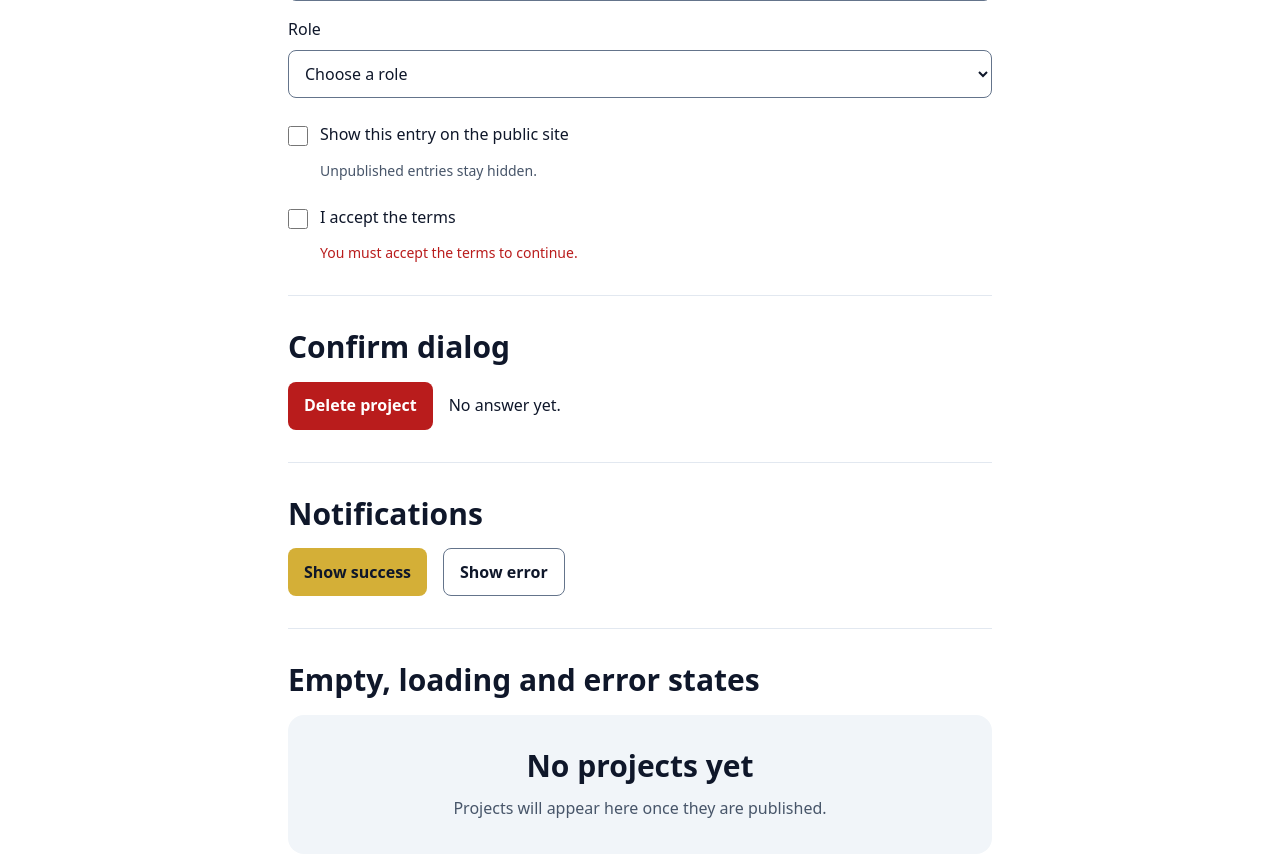
Test: ComponentGalleryPage › opens the confirm dialog and records the answer
(page scrolled)
Click the button "Delete project".
click(360, 406)  # box [288,382,433,430]
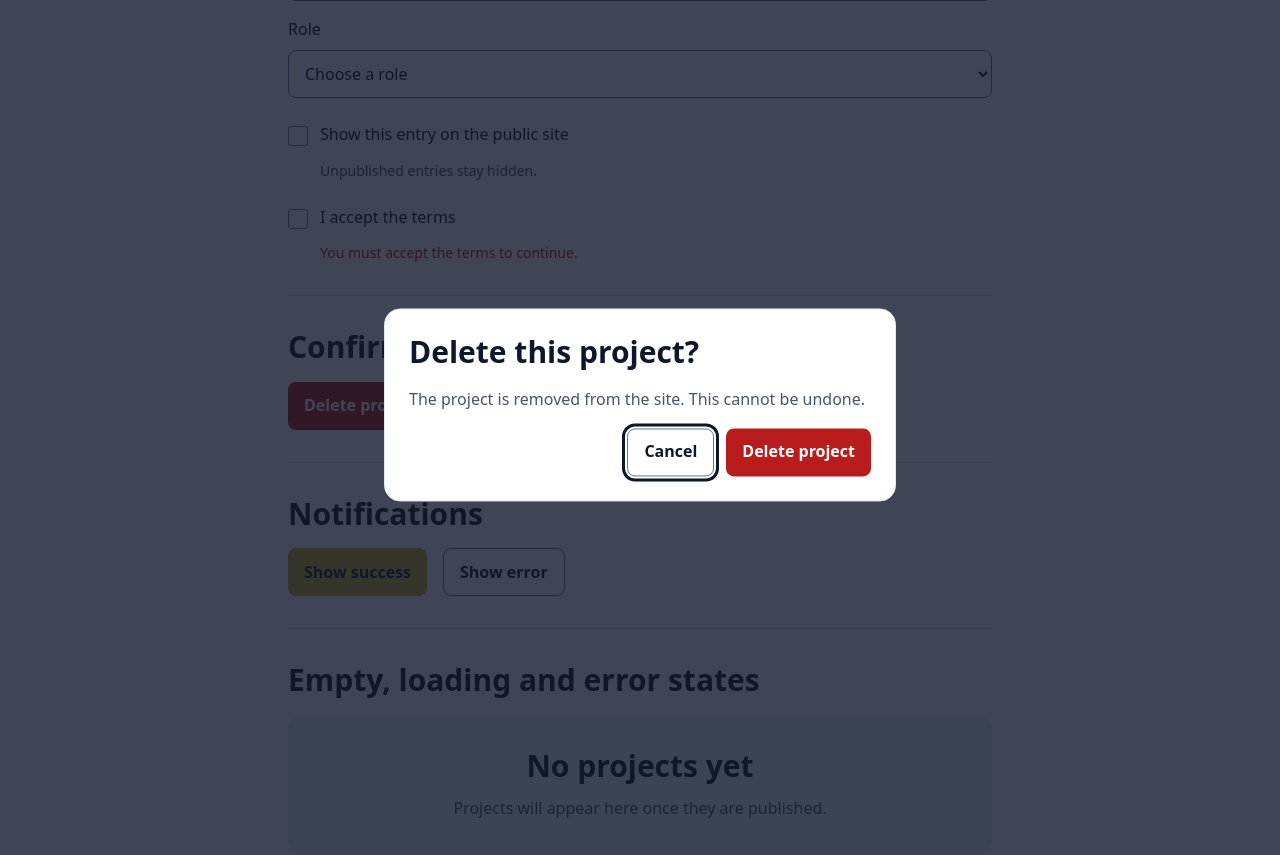
Press Escape
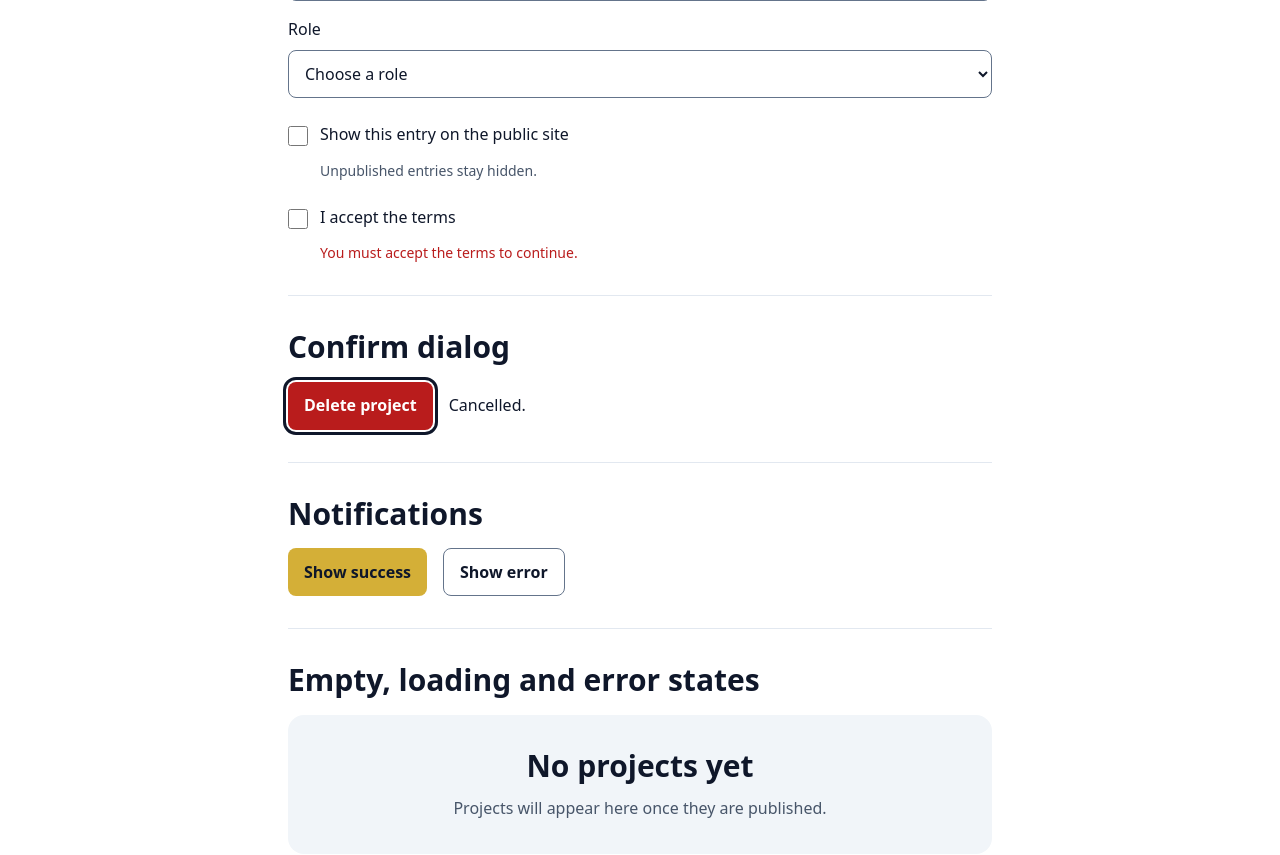
Expected: the text "Cancelled." is shown, [449,393,526,419]
